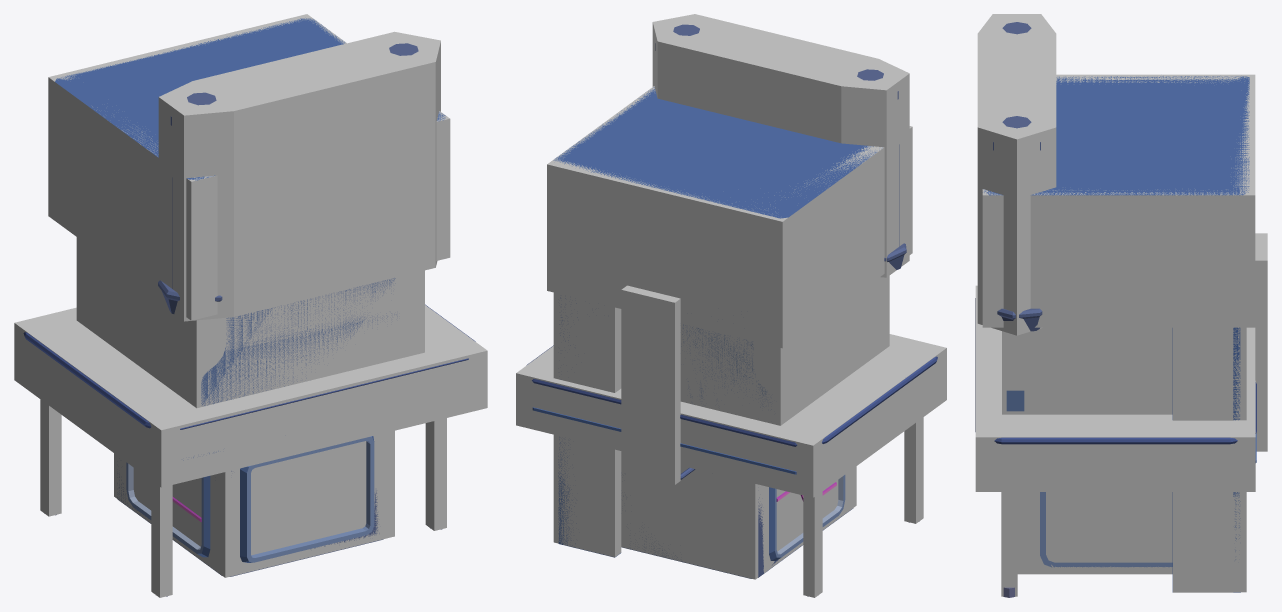
The model's file is SM_Building_01.fbx.
3 renders of one model, left to right at view 1: azimuth 30°, elevation 25°; view 2: azimuth 150°, elevation 25°; view 3: azimuth 270°, elevation 25°, orthographic. The views are drawn at different scales.
Visible parts, largest first — view 1: SM_Building_01_ConvexHulls, SM_Building_01; view 2: SM_Building_01_ConvexHulls, SM_Building_01; view 3: SM_Building_01_ConvexHulls, SM_Building_01.
Boxes of the visible parts, left/top/right/bottom form: SM_Building_01_ConvexHulls: left=14, top=14, right=487, bottom=597; SM_Building_01: left=23, top=18, right=475, bottom=596; SM_Building_01_ConvexHulls: left=516, top=14, right=946, bottom=597; SM_Building_01: left=526, top=24, right=937, bottom=596; SM_Building_01_ConvexHulls: left=975, top=14, right=1267, bottom=596; SM_Building_01: left=975, top=22, right=1256, bottom=597.
Bounding box in the file's own units: 705 × 564 × 978.
